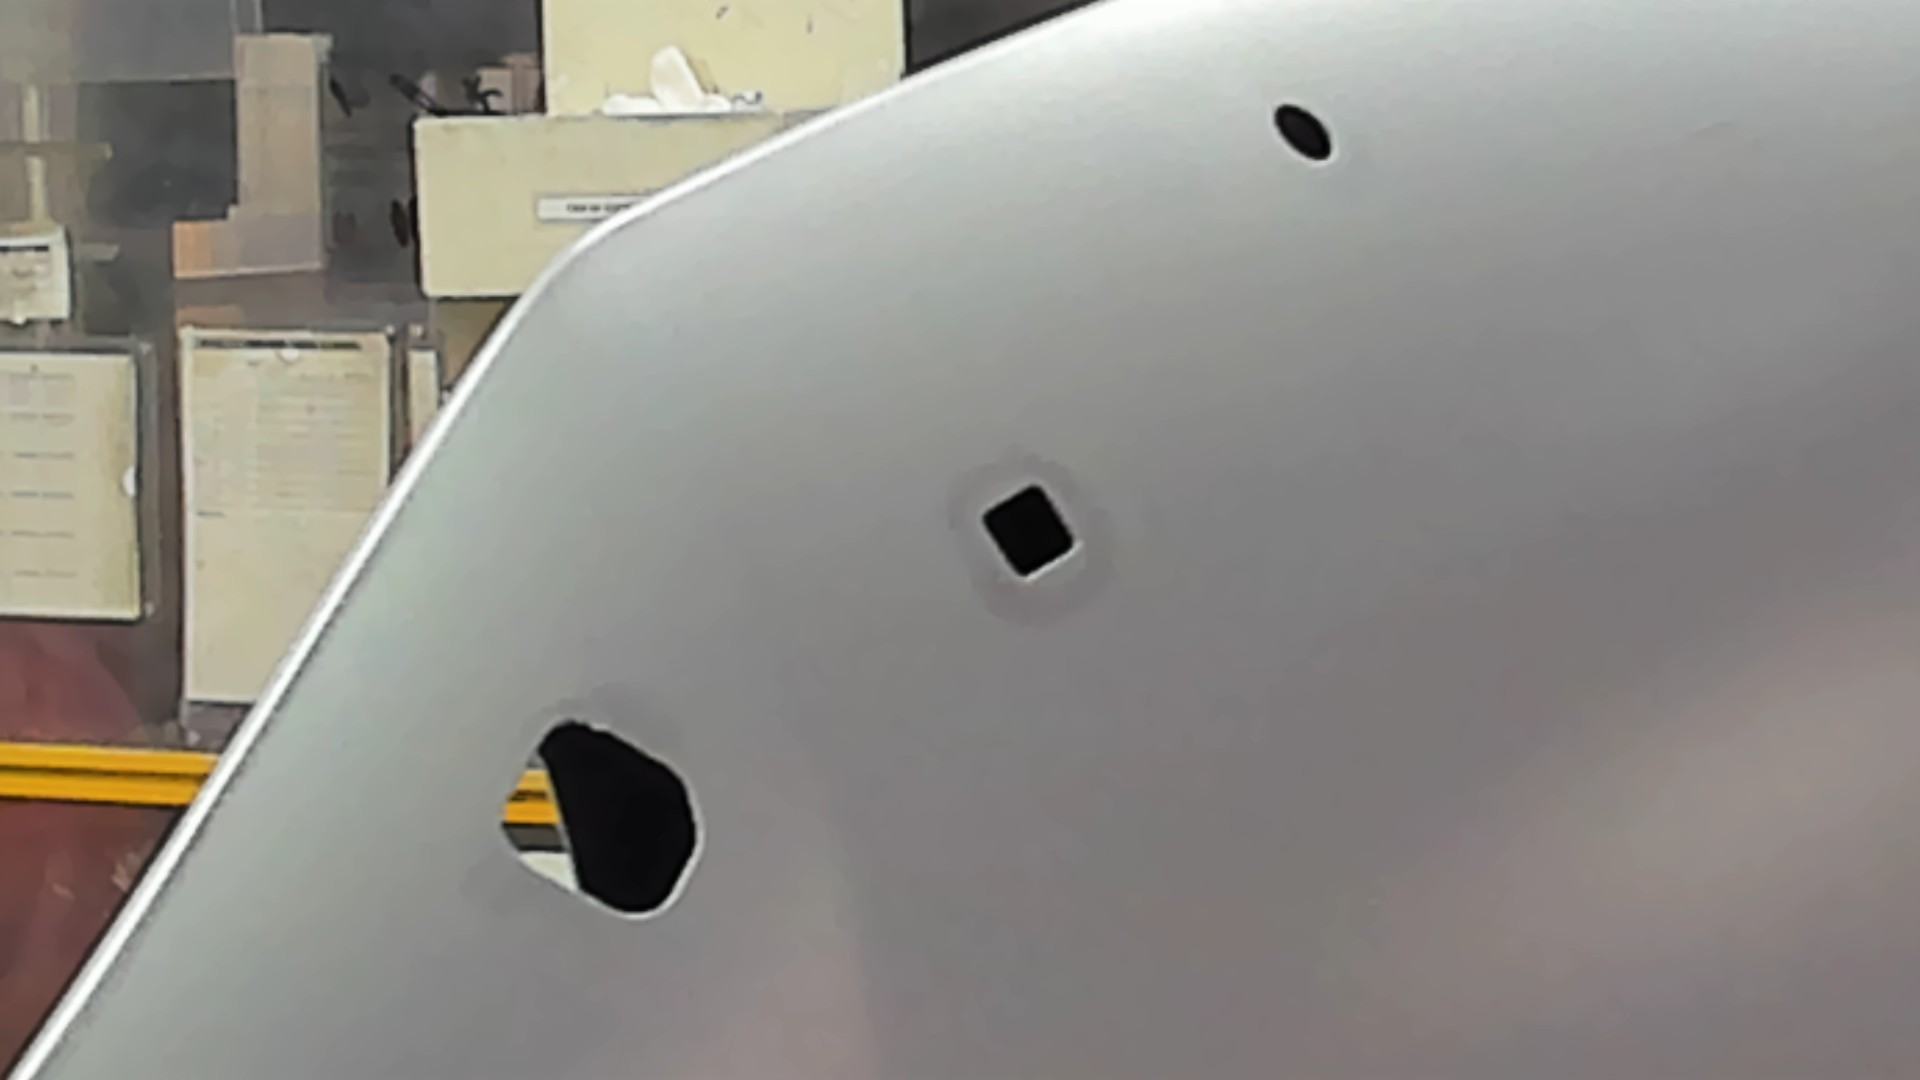chico: (1265, 100, 1338, 167)
grande: (496, 705, 709, 927)
mediano: (975, 477, 1083, 587)
